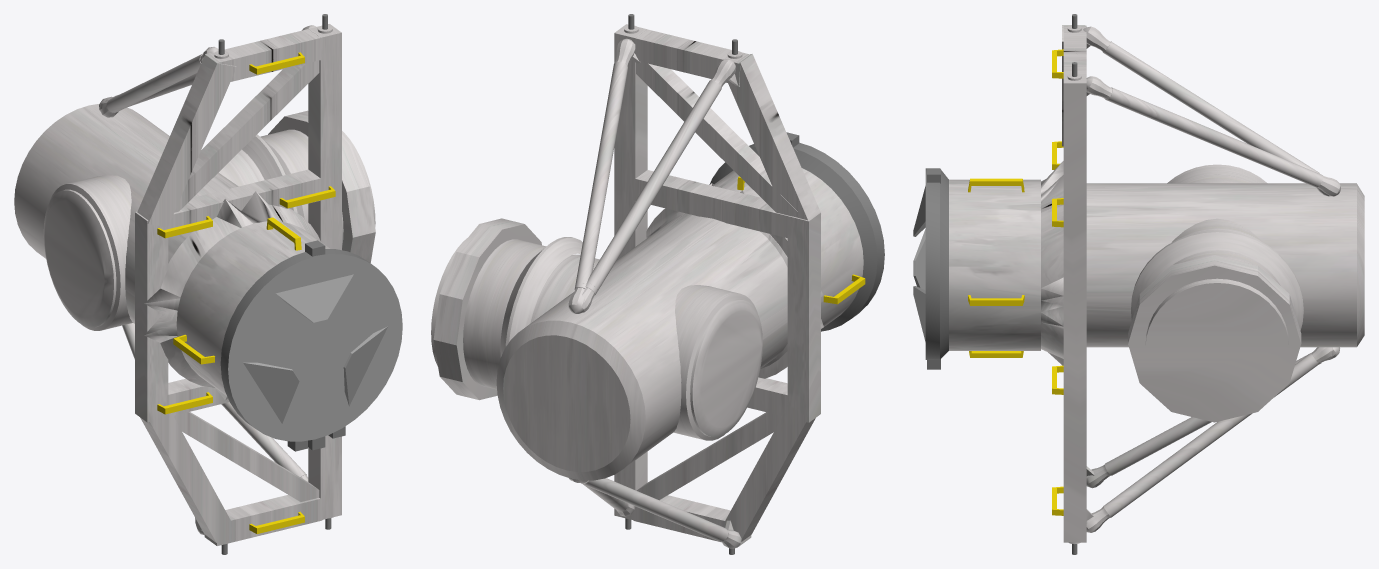
Rendered from orbiter-docking-system-engine.glb.
3 renders of one model, left to right at view 1: azimuth 30°, elevation 25°; view 2: azimuth 150°, elevation 25°; view 3: azimuth 270°, elevation 25°, orthographic. The views are drawn at different scales.
Visible parts, largest first — view 1: ods.layer1; view 2: ods.layer1; view 3: ods.layer1.
Boxes of the visible parts, <box> form: ods.layer1: <box>14,14,402,554</box>; ods.layer1: <box>431,14,884,554</box>; ods.layer1: <box>913,14,1364,554</box>.
Bounding box in the file's own units: 107 × 192 × 160.
4 materials, 1 textured.
